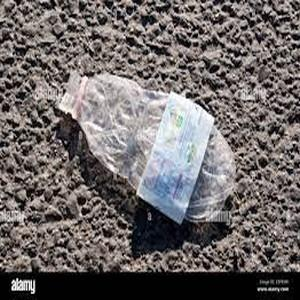Plastic: (55, 62, 243, 234)
